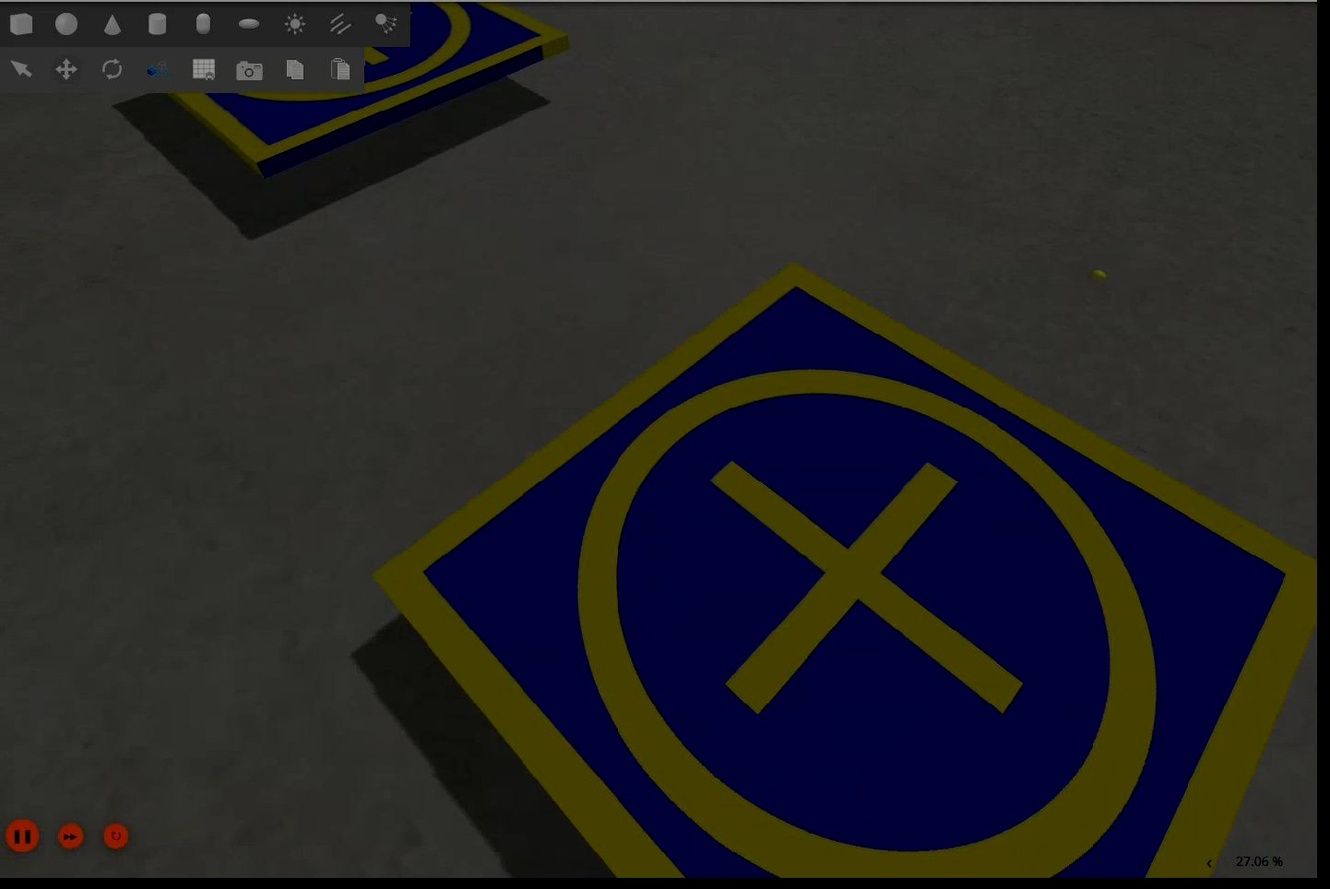small_base: (373, 260, 1319, 880), (166, 1, 573, 177)
